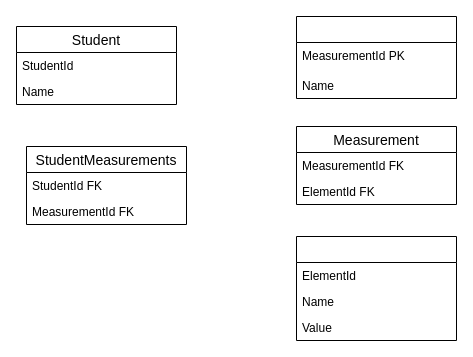
Some shapes in this 473 by 357 pixel diagram are drawn without their labels. The box of each missing label's shape, as (x1, y1, x2, y2) in pixels:
MeasurementElement: (296, 236, 456, 340)
Measurements: (296, 16, 456, 98)
